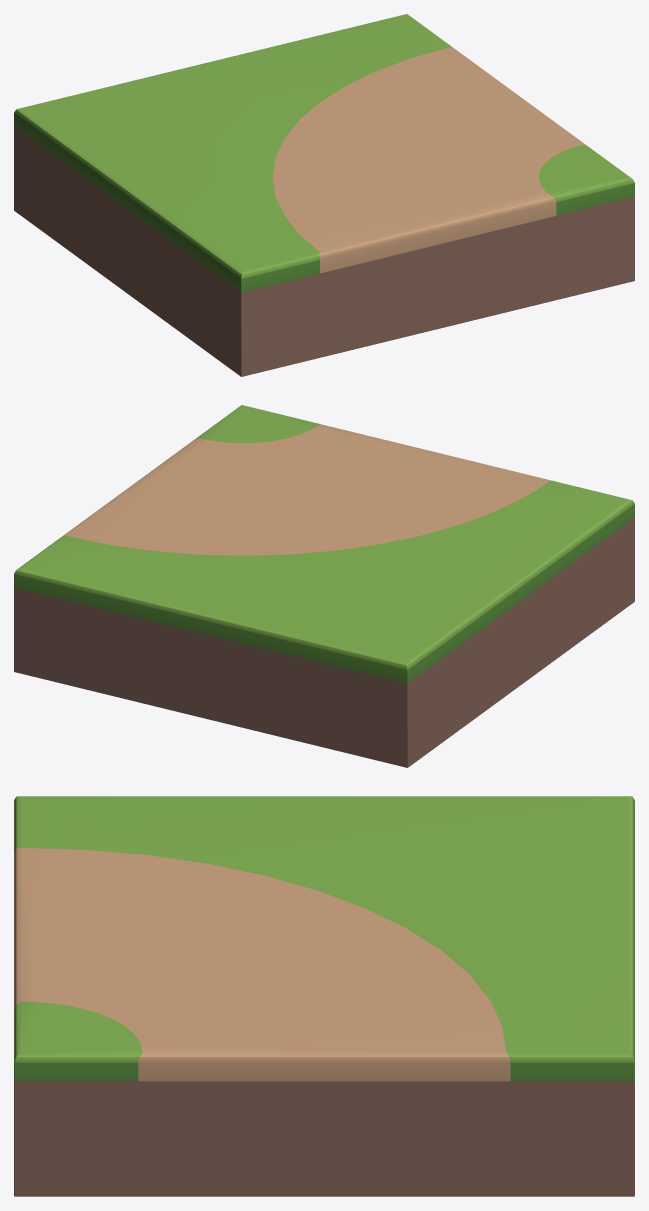
Rendered from dirt_path_soft_curve_01.glb.
The picture shows the model from 3 angles, top to bottom: view 1: azimuth 30°, elevation 25°; view 2: azimuth 150°, elevation 25°; view 3: azimuth 270°, elevation 25°; orthographic projection. The views are drawn at different scales.
Visible parts, largest first — view 1: dirt_path_soft_curve_01; view 2: dirt_path_soft_curve_01; view 3: dirt_path_soft_curve_01.
Part boxes in pixels (box(x1,y1,x2,y2)): dirt_path_soft_curve_01: box(14, 14, 634, 376); dirt_path_soft_curve_01: box(14, 405, 634, 767); dirt_path_soft_curve_01: box(14, 796, 634, 1196).
Bounding box in the file's own units: 1 × 0.25 × 1.
